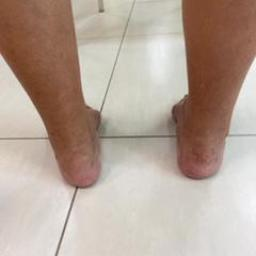Back View -Both Feet-: (10, 72, 250, 200)
